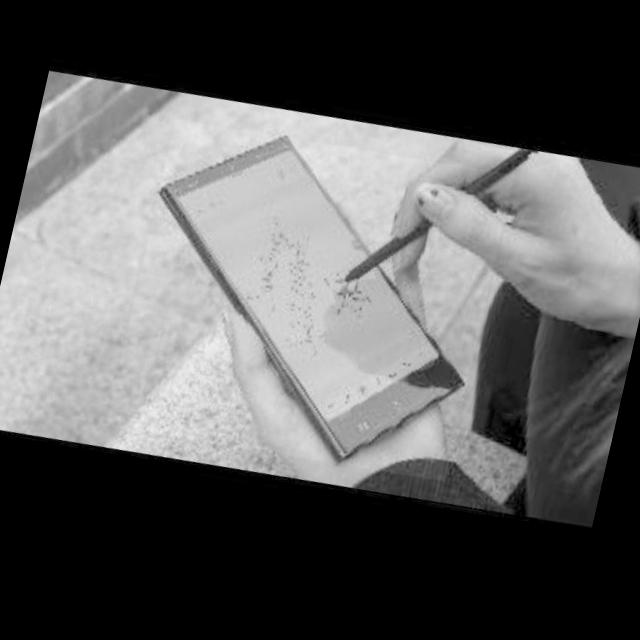Smartphone: (147, 132, 475, 477)
